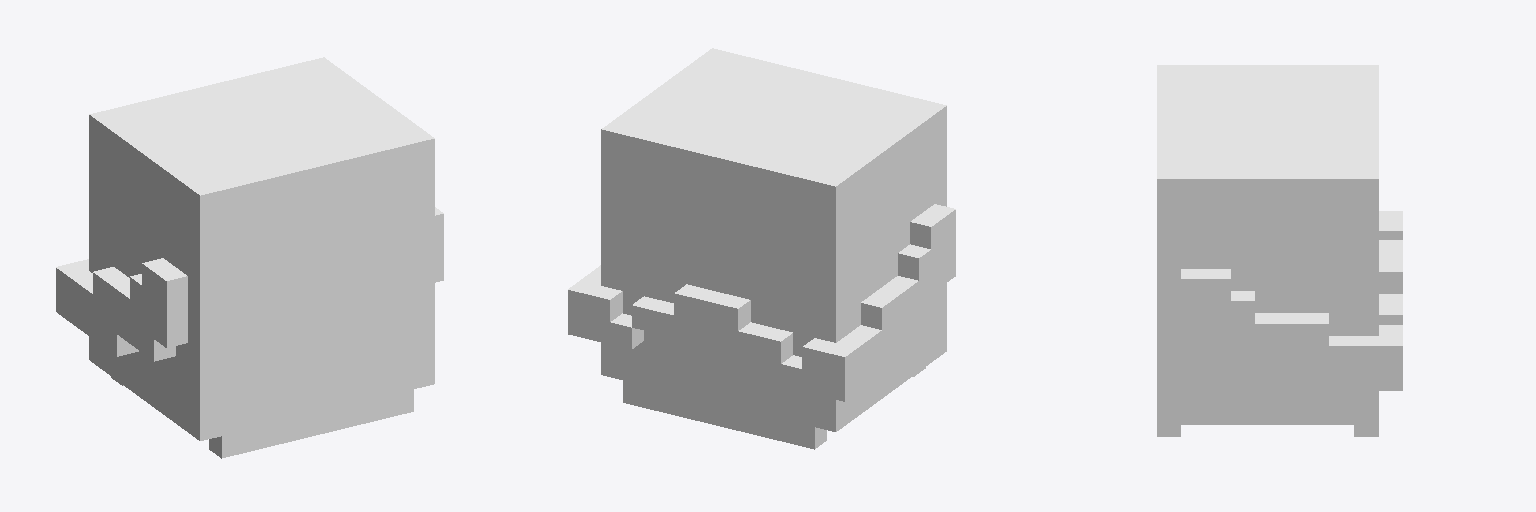
The model's file is Heroes-3.obj.
3 renders of one model, left to right at view 1: azimuth 30°, elevation 25°; view 2: azimuth 150°, elevation 25°; view 3: azimuth 270°, elevation 25°, orthographic.
Visible parts, largest first — view 1: object 1; view 2: object 1; view 3: object 1.
Part boxes in pixels (bbox=[...]): object 1: bbox=[56, 57, 443, 458]; object 1: bbox=[568, 48, 955, 449]; object 1: bbox=[1157, 65, 1402, 436].
Bounding box in the file's own units: 1.3 × 1.2 × 1.